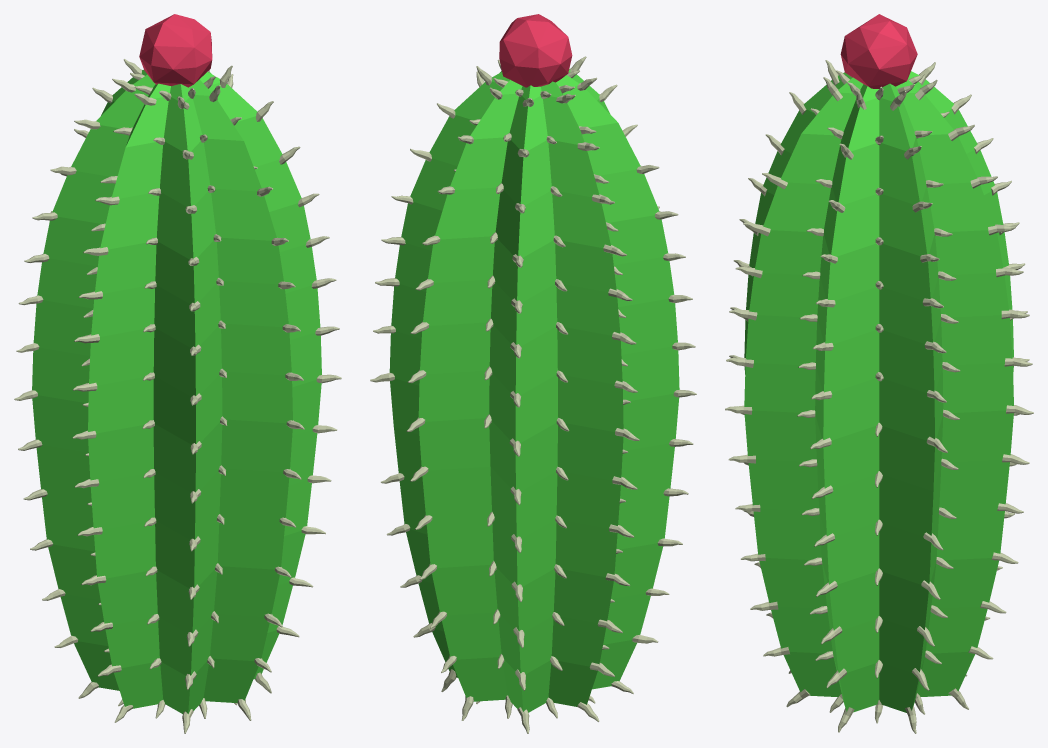
File: cactus2.fbx
The picture shows the model from 3 angles, left to right: view 1: azimuth 30°, elevation 25°; view 2: azimuth 150°, elevation 25°; view 3: azimuth 270°, elevation 25°; orthographic projection.
Visible parts, largest first — view 1: Cylinder, Icosphere; view 2: Cylinder, Icosphere; view 3: Cylinder, Icosphere.
Part boxes in pixels (x1,y1,x2,y2): Cylinder: (32, 69, 321, 713); Icosphere: (139, 14, 212, 87); Cylinder: (389, 69, 679, 712); Icosphere: (499, 14, 572, 87); Cylinder: (744, 71, 1013, 712); Icosphere: (840, 14, 917, 88).
Bounding box in the file's own units: 199 × 197 × 484.
